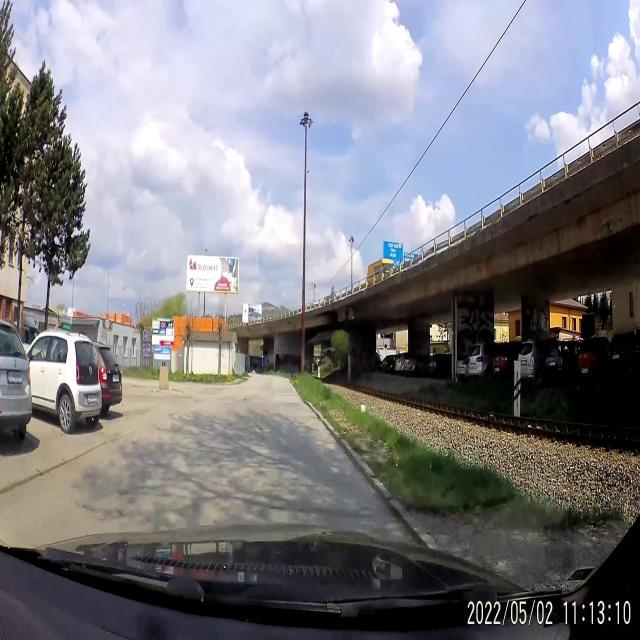Pothole: (73, 492, 125, 524)
